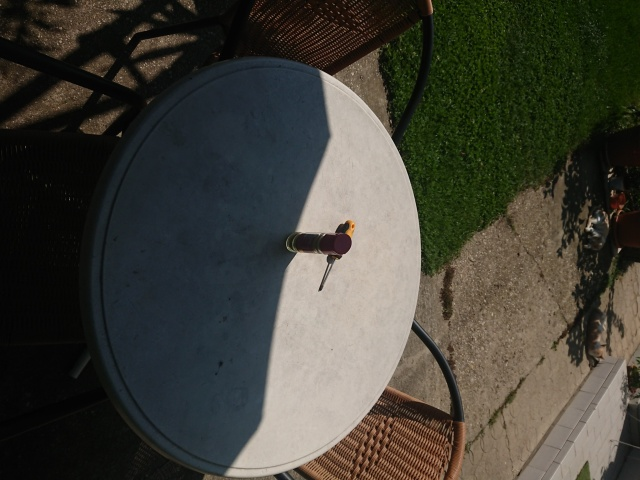Kotanyi Curry Spices Mix 70g: (285, 231, 353, 257)
